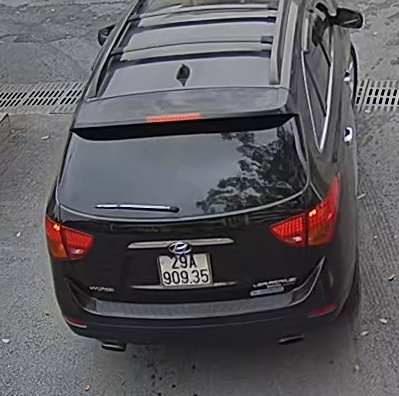vehicle plate: (158, 249, 211, 289)
